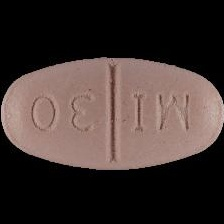61919-154: (0, 0, 224, 224)
